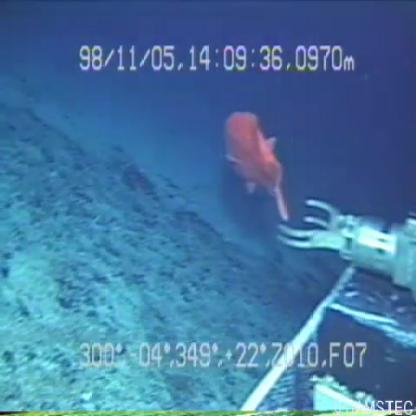Bio: (220, 105, 292, 225)
Rov: (274, 194, 416, 290)
